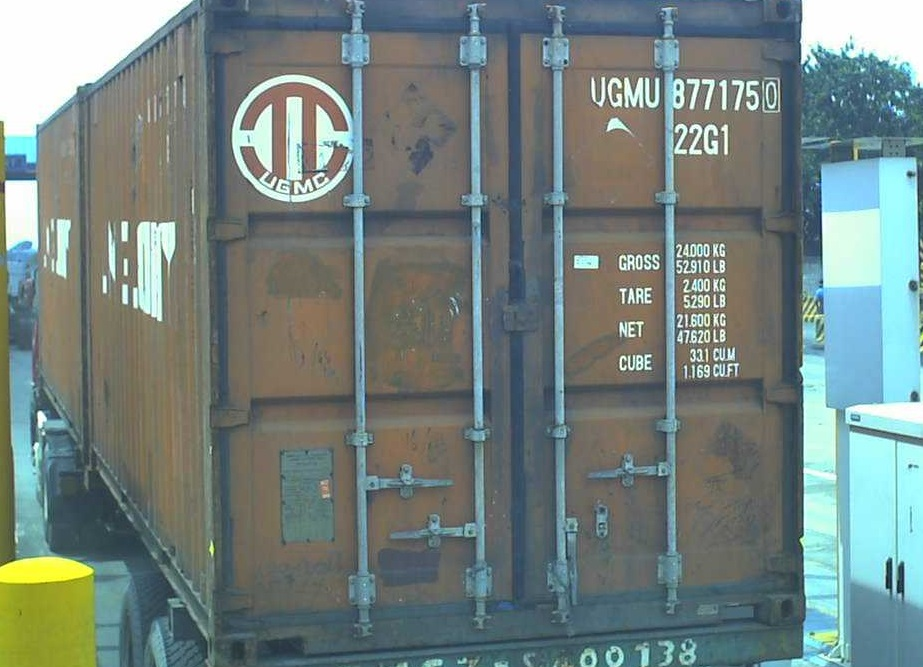container_door: (201, 3, 805, 639)
